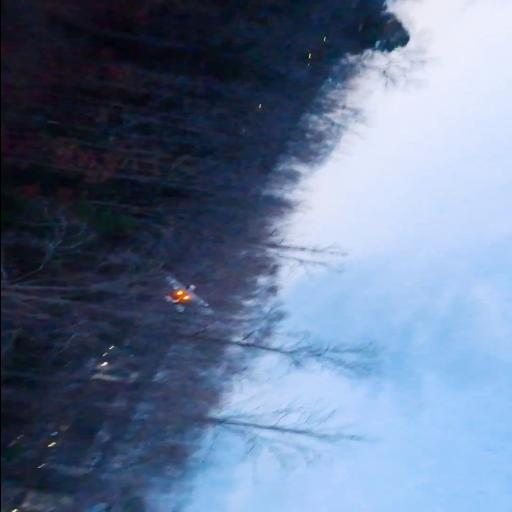uav: (158, 270, 213, 314)
